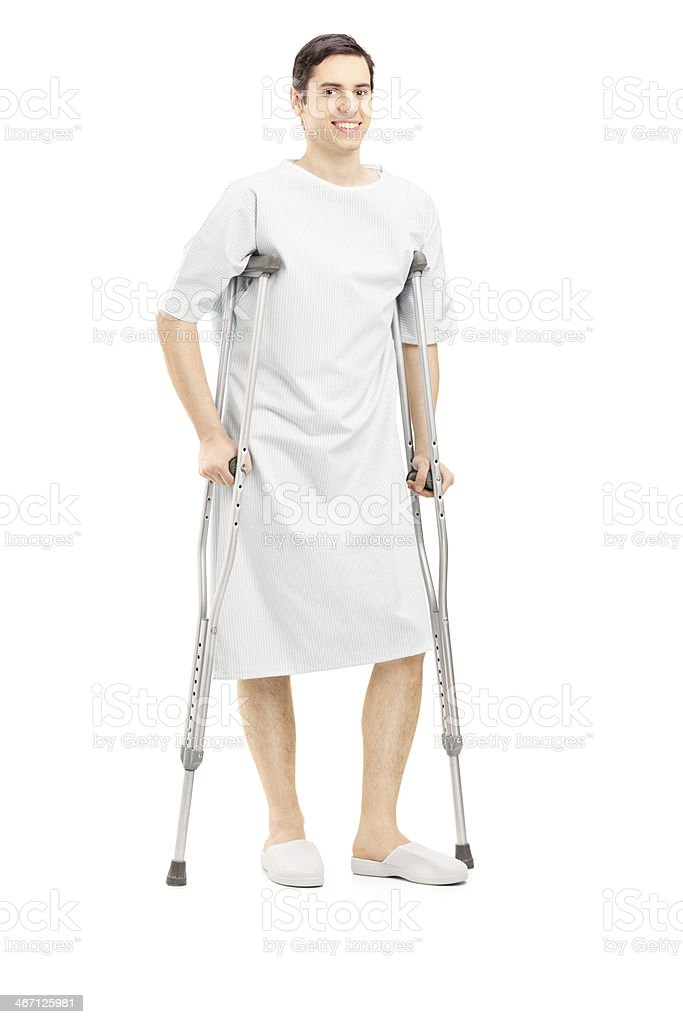crutches: (153, 31, 474, 891)
